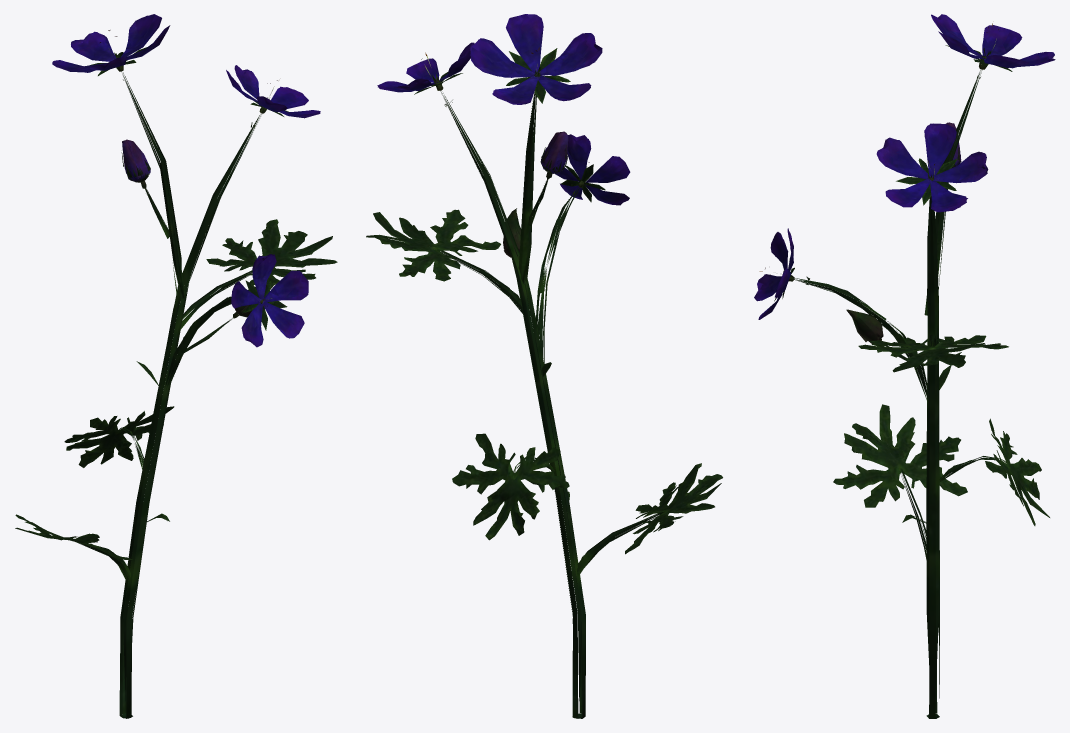
Rendered from geranium.glb.
The picture shows the model from 3 angles, left to right: view 1: azimuth 30°, elevation 25°; view 2: azimuth 150°, elevation 25°; view 3: azimuth 270°, elevation 25°; orthographic projection. The views are drawn at different scales.
Visible parts, largest first — view 1: Geranium_w; view 2: Geranium_w; view 3: Geranium_w.
Boxes of the visible parts, bbox=[...] form: Geranium_w: bbox=[15, 14, 337, 718]; Geranium_w: bbox=[366, 14, 722, 718]; Geranium_w: bbox=[754, 14, 1055, 718].
Size of the model in its own units: 0.2788 by 0.55 by 0.2133.
Materials: 1 (1 with a texture image).
